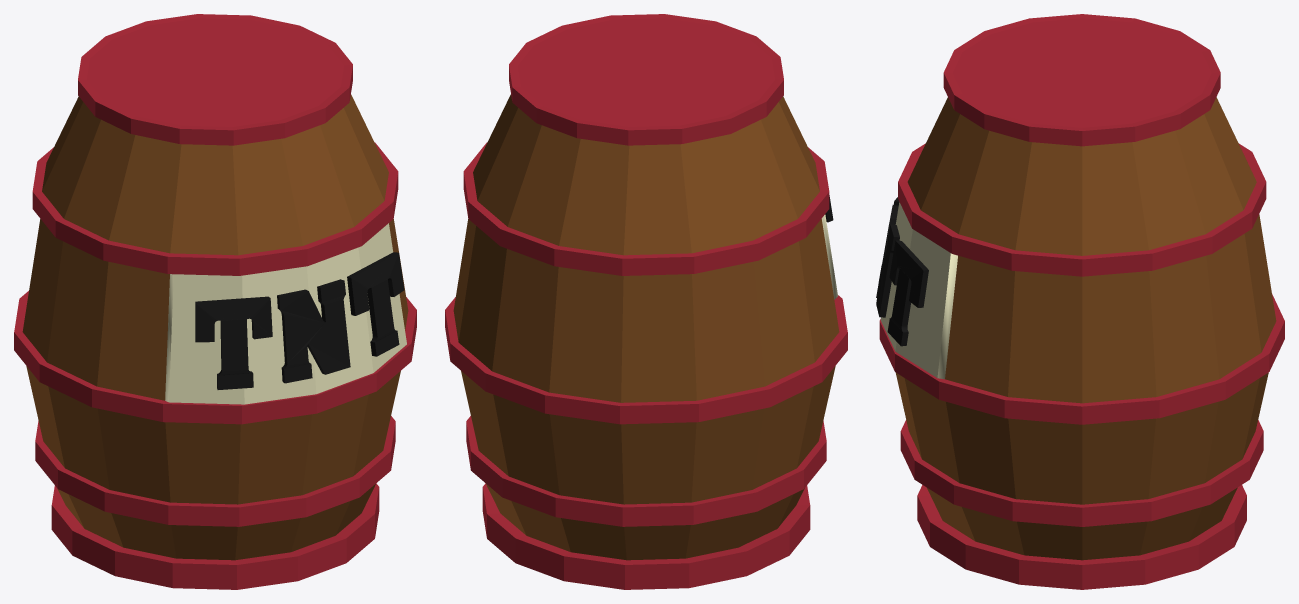
The model's file is TnT barrel.fbx.
The picture shows the model from 3 angles, left to right: view 1: azimuth 30°, elevation 25°; view 2: azimuth 150°, elevation 25°; view 3: azimuth 270°, elevation 25°; orthographic projection.
Visible parts, largest first — view 1: TnT barrel; view 2: TnT barrel; view 3: TnT barrel.
Boxes of the visible parts, x1,y1,x2,y2 form: TnT barrel: (14,14,416,589); TnT barrel: (445,14,847,589); TnT barrel: (876,14,1284,589).
Size of the model in its own units: 80.56 by 98.19 by 81.25.
